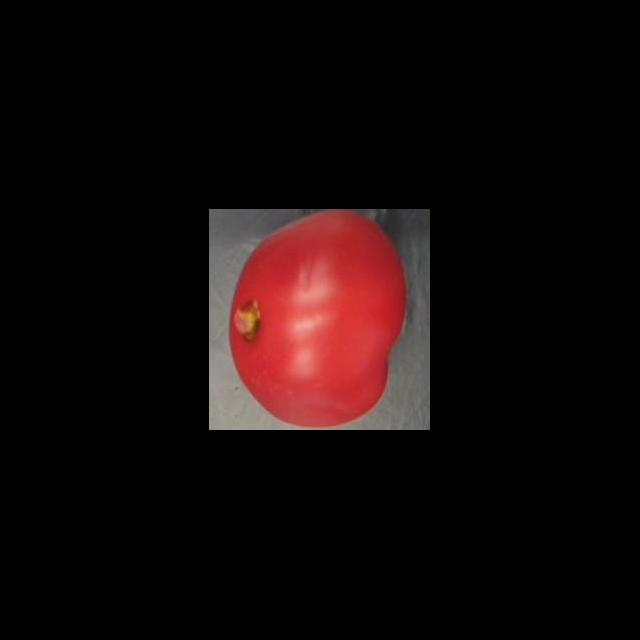tomato: (226, 212, 412, 430)
